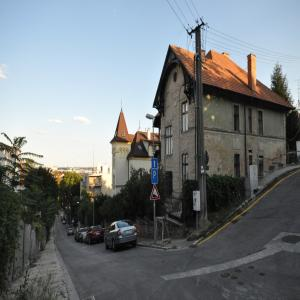Vehicle-registration-plate: (125, 230, 133, 236)
